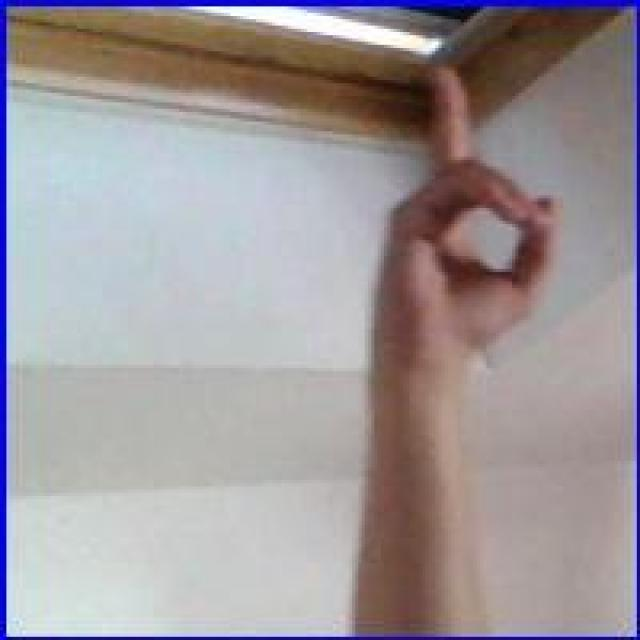D: (368, 59, 566, 418)
